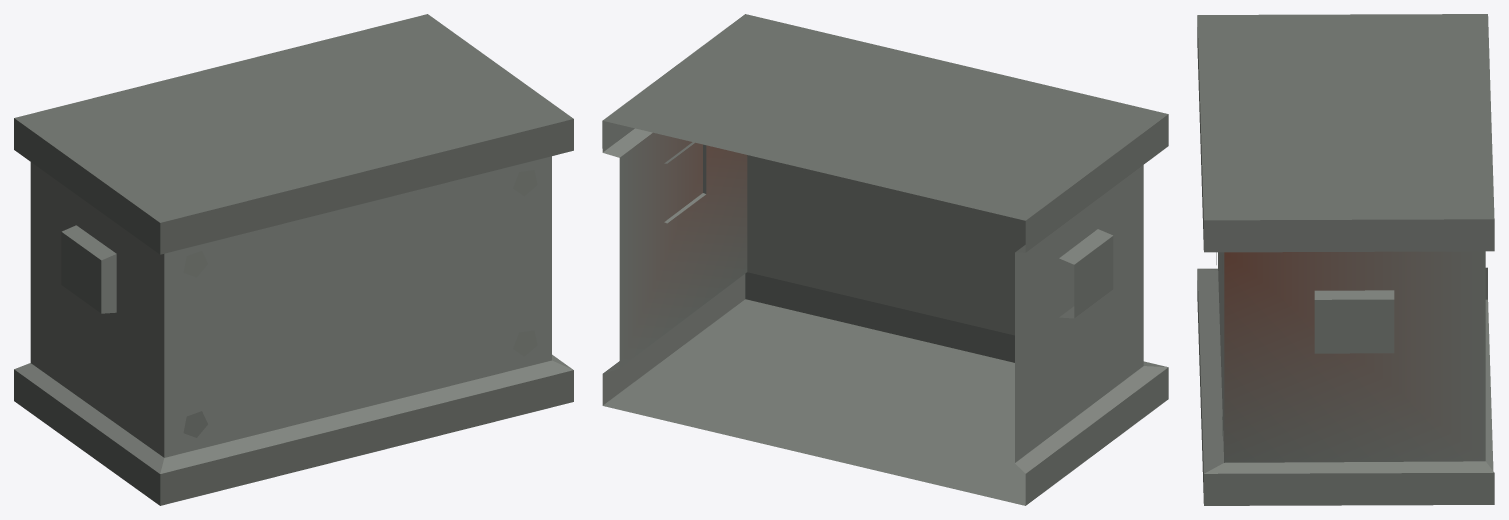
Rendered from MSH_QuestObject_container_01.fbx.
3 views of the same model, side by side, from view 1: azimuth 30°, elevation 25°; view 2: azimuth 150°, elevation 25°; view 3: azimuth 270°, elevation 25° (orthographic).
Parts seen in each view (by area): view 1: MSH_QuestObject_container_01; view 2: MSH_QuestObject_container_01; view 3: MSH_QuestObject_container_01.
Part boxes in pixels (x1=…): MSH_QuestObject_container_01: x1=14, y1=14, x2=573, y2=505; MSH_QuestObject_container_01: x1=602, y1=14, x2=1168, y2=505; MSH_QuestObject_container_01: x1=1197, y1=14, x2=1494, y2=505.
Size of the model in its own units: 1.65 by 1.06 by 1.
